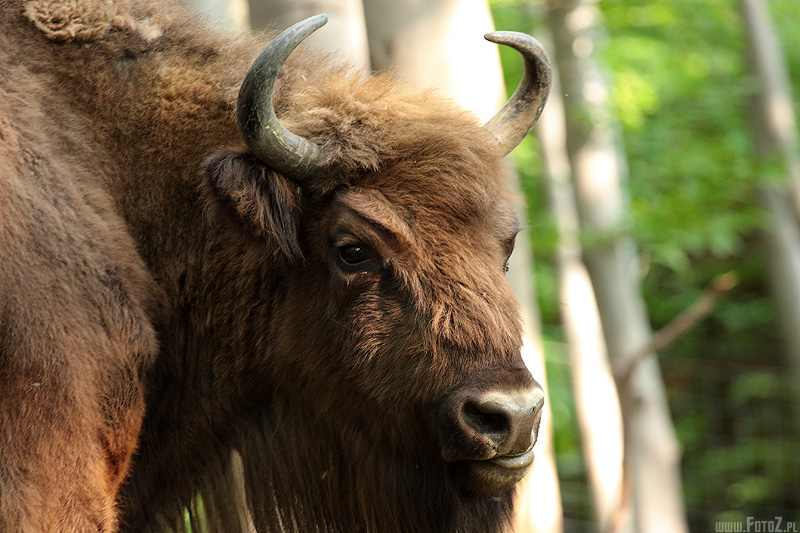zubr: (25, 1, 681, 531)
